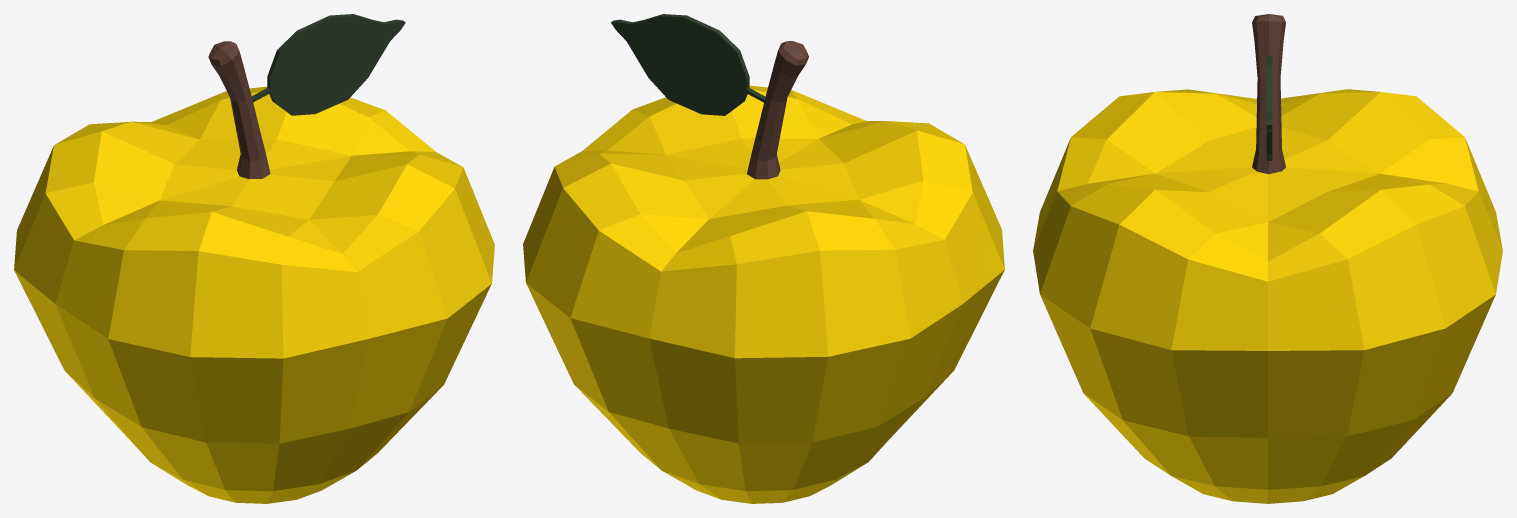
Rendered from apple-golden.glb.
3 views of the same model, side by side, from view 1: azimuth 30°, elevation 25°; view 2: azimuth 150°, elevation 25°; view 3: azimuth 270°, elevation 25° (orthographic). The views are drawn at different scales.
Parts seen in each view (by area): view 1: Apple_Green; view 2: Apple_Green; view 3: Apple_Green.
Part boxes in pixels (x1,y1,x2,y2): Apple_Green: (14,14,494,503); Apple_Green: (523,14,1004,503); Apple_Green: (1033,14,1502,503).
Size of the model in its own units: 0.1626 by 0.1726 by 0.1618.
